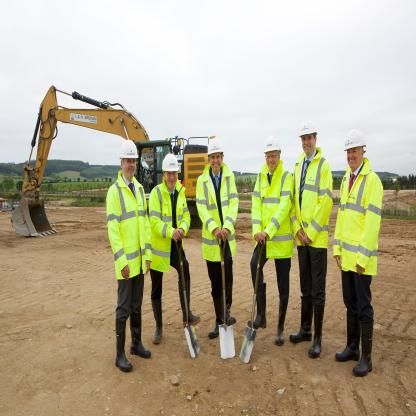person: (328, 123, 386, 385), (102, 129, 154, 380), (244, 112, 290, 351), (286, 118, 330, 359), (194, 130, 242, 344), (151, 150, 198, 350)
